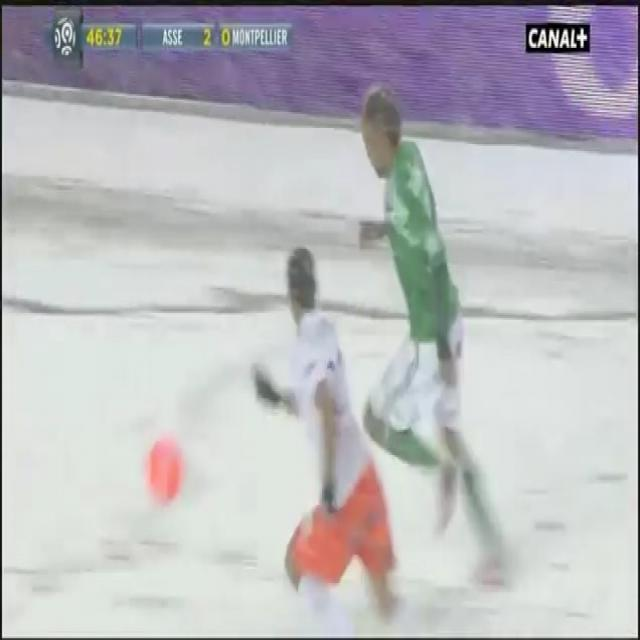ball: (140, 389, 199, 539)
player: (361, 85, 526, 607), (232, 235, 401, 640)
